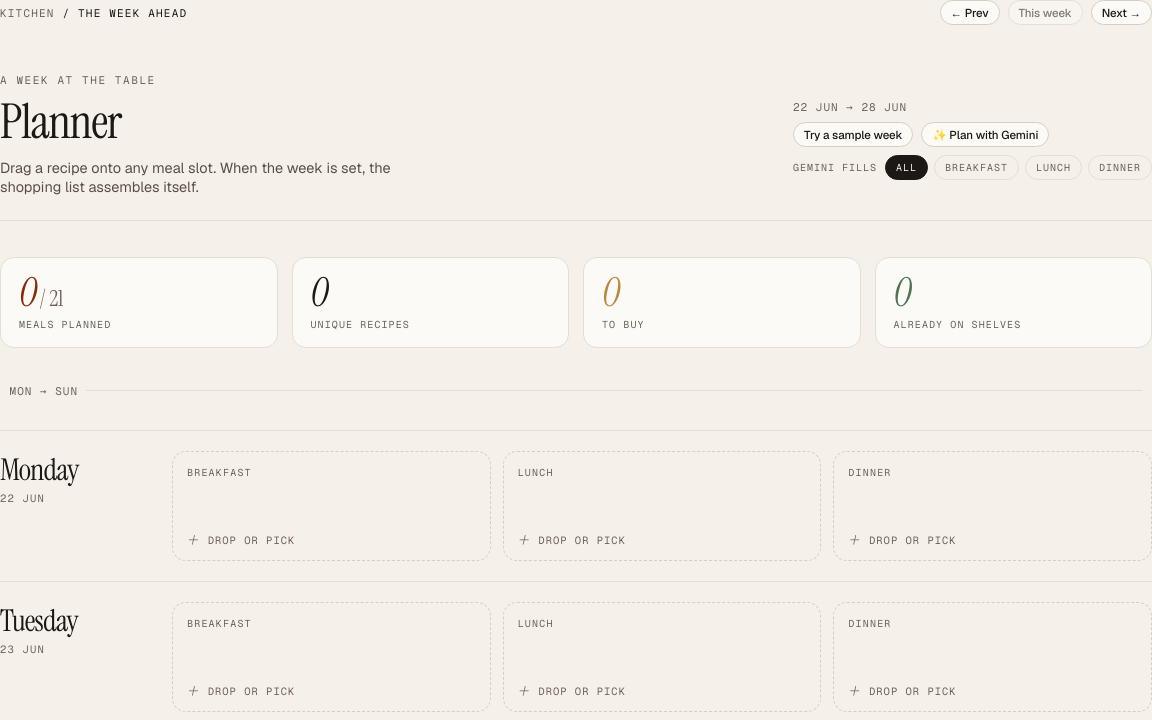
PlannerScreen – recipe picker modal › picker shows an empty state when the search has no matches
This screenshot has width=1152, height=720.
Click the 1st button "+ drop or pick" at (251, 540), box 187,533 -> 476,548
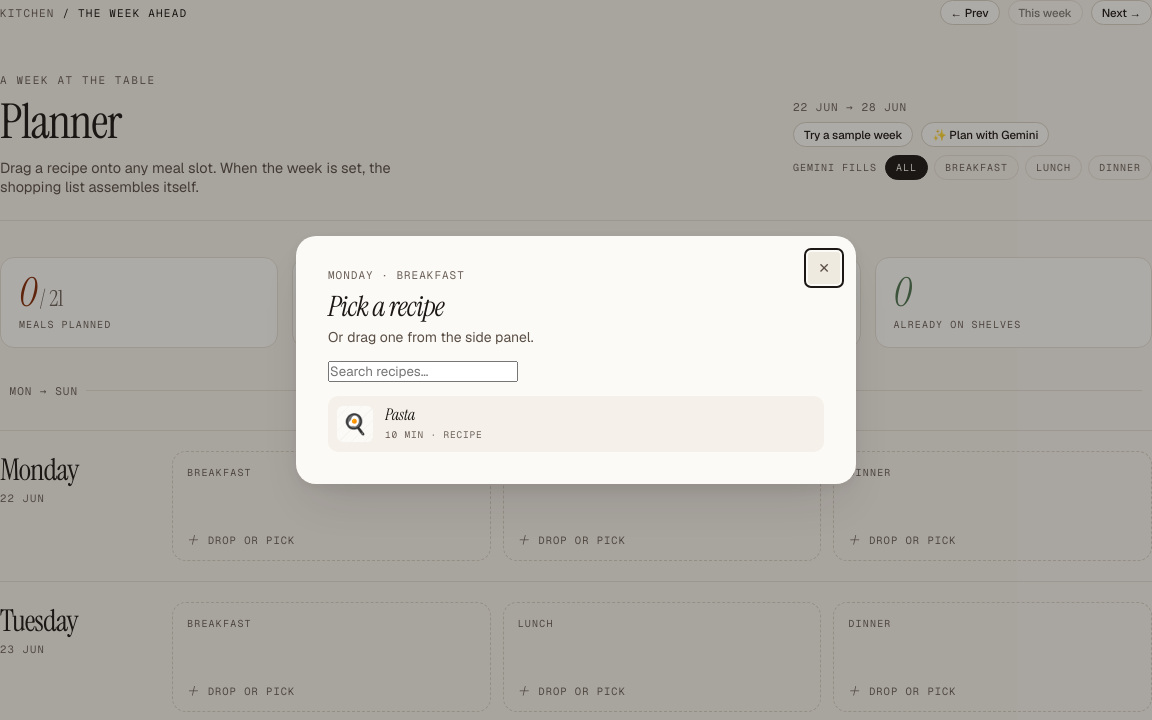
Type "zzznomatch" into the field with placeholder "Search recipes…" at (423, 371), box 328,361 -> 518,382
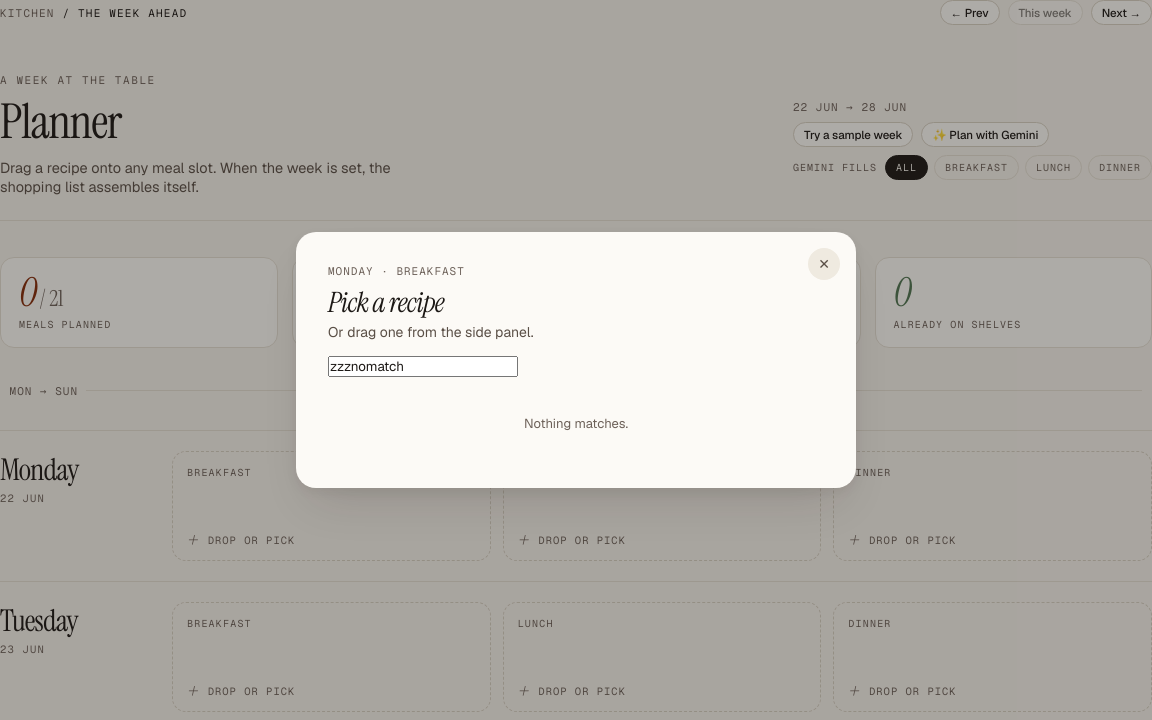
Result: the text "Nothing matches." is shown at 524,415 -> 628,432
